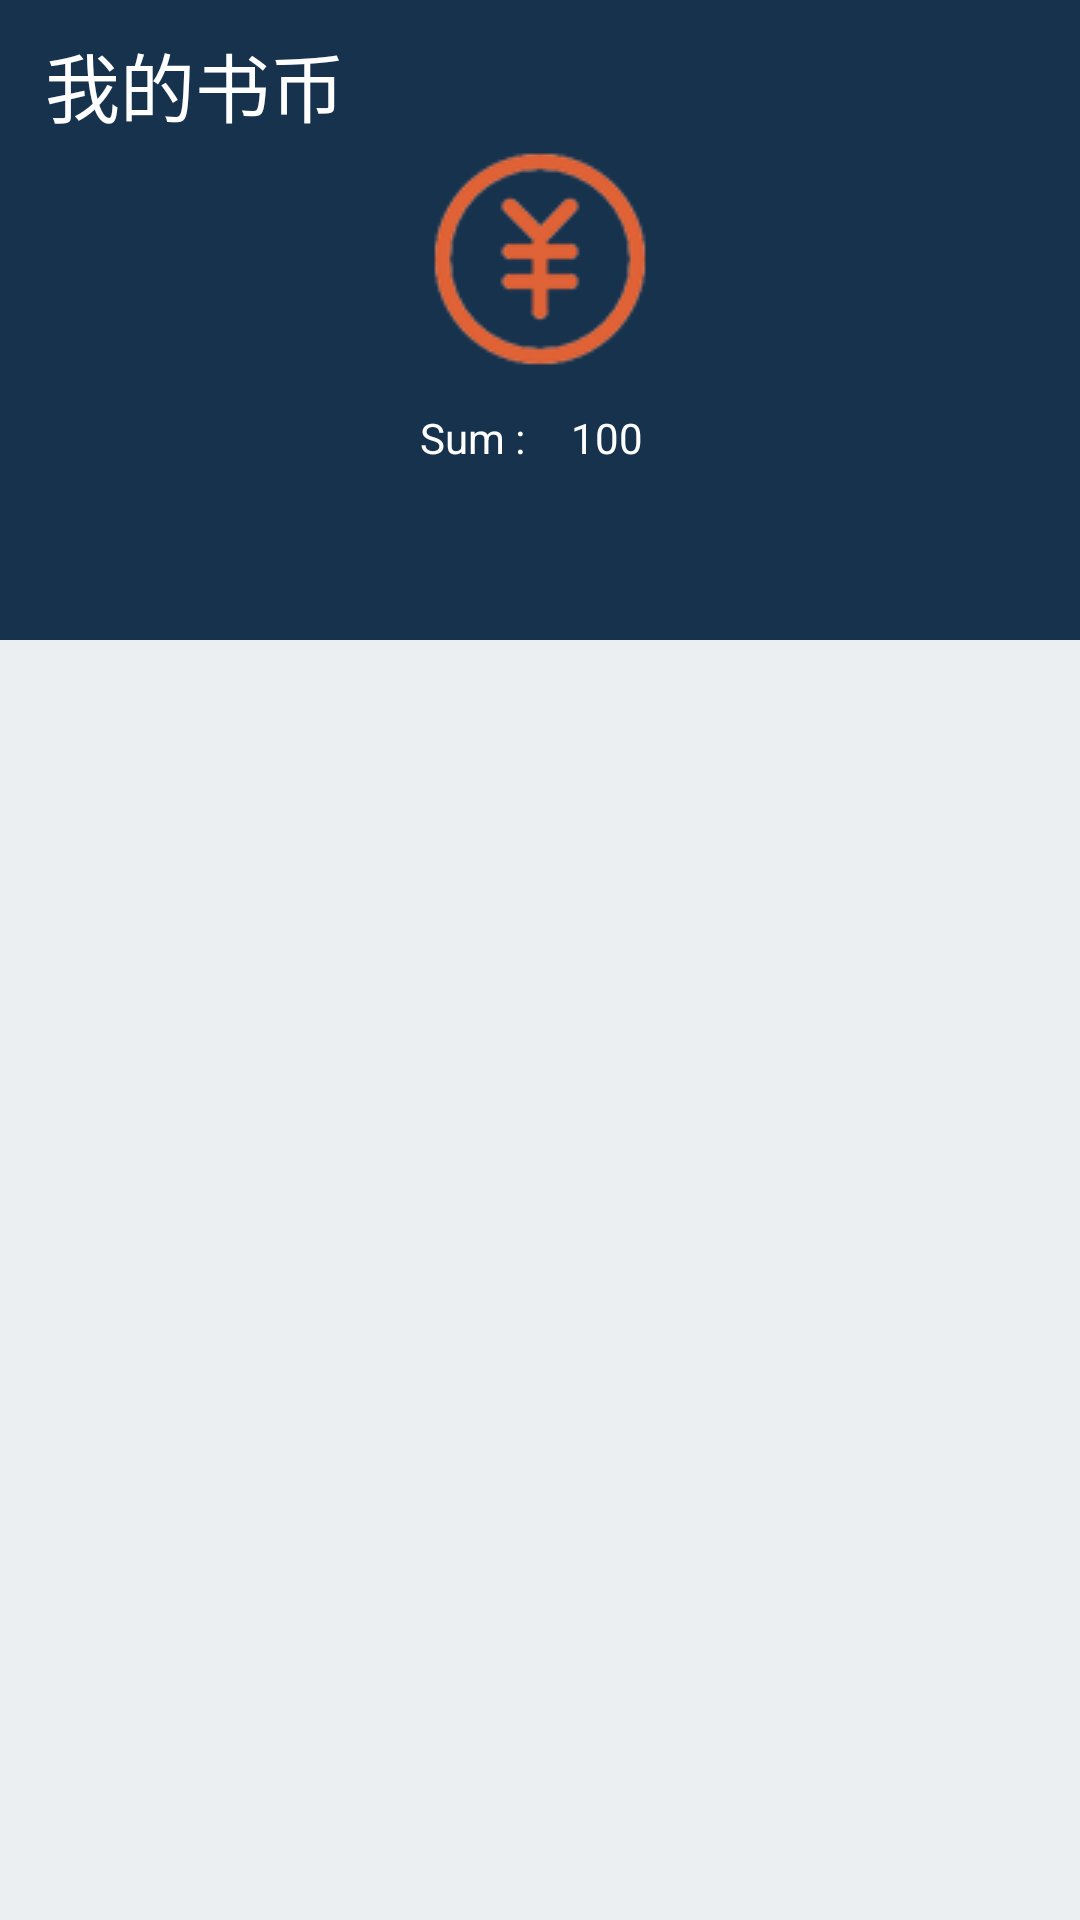

Point at icon controls on the screen. Image size 1080x1920, points as (x=x, y=y).
getmoneys: (x=540, y=259)
